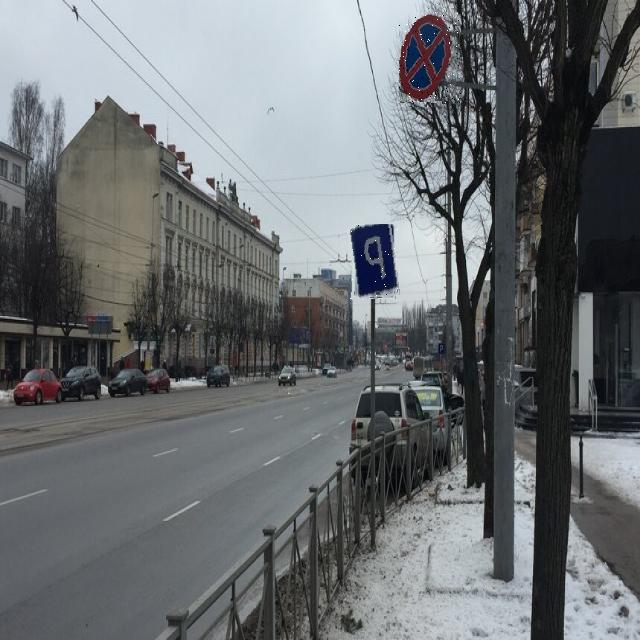no stopping: (399, 12, 461, 103)
parking: (350, 224, 398, 300)
